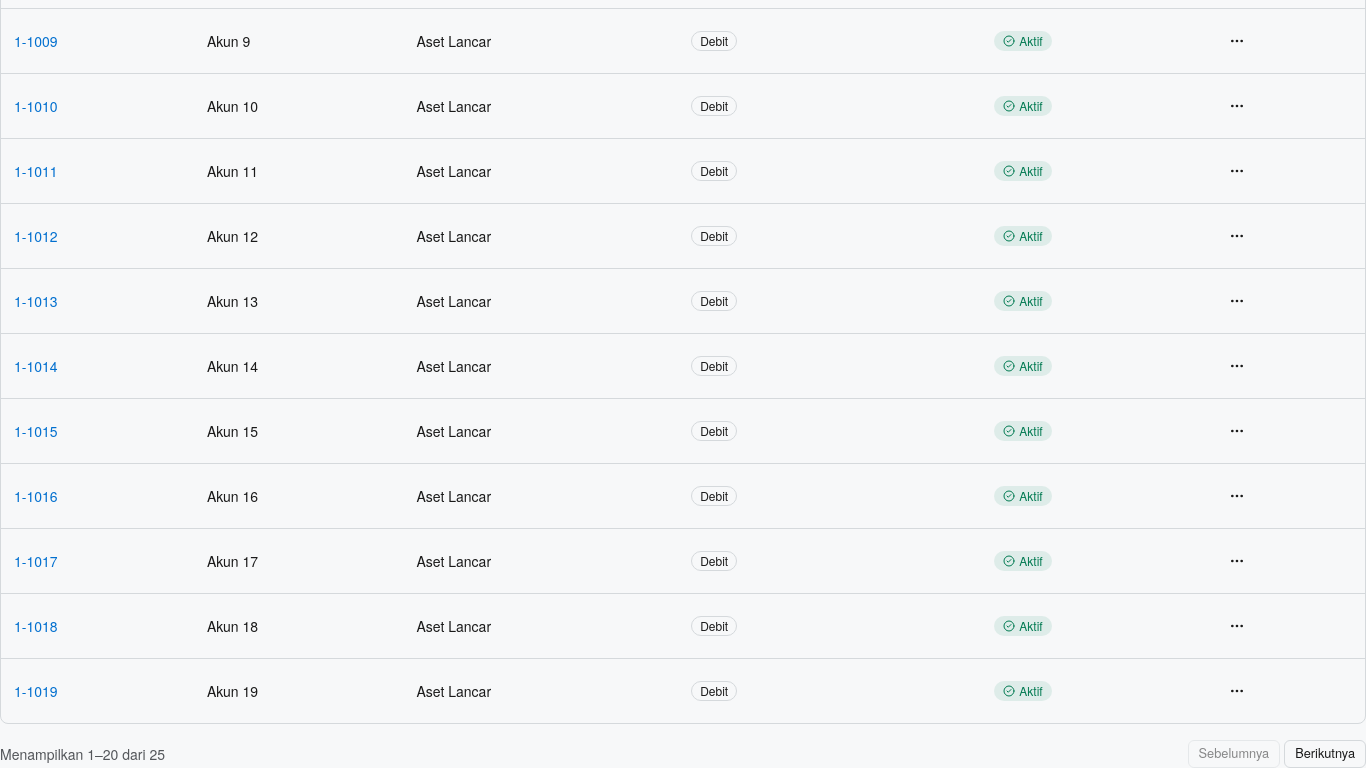
it: paginates accounts server-side
(page scrolled)
Check: the text "Akun 20" is not shown
Check: the text "Menampilkan 1–20 dari 25" is shown, box [0,744,165,764]
What coordinates should you click on to do the following:
click the button "Berikutnya"
I would click on:
 (1325, 754)
Its box is [1284,740,1365,767].
(page scrolled)
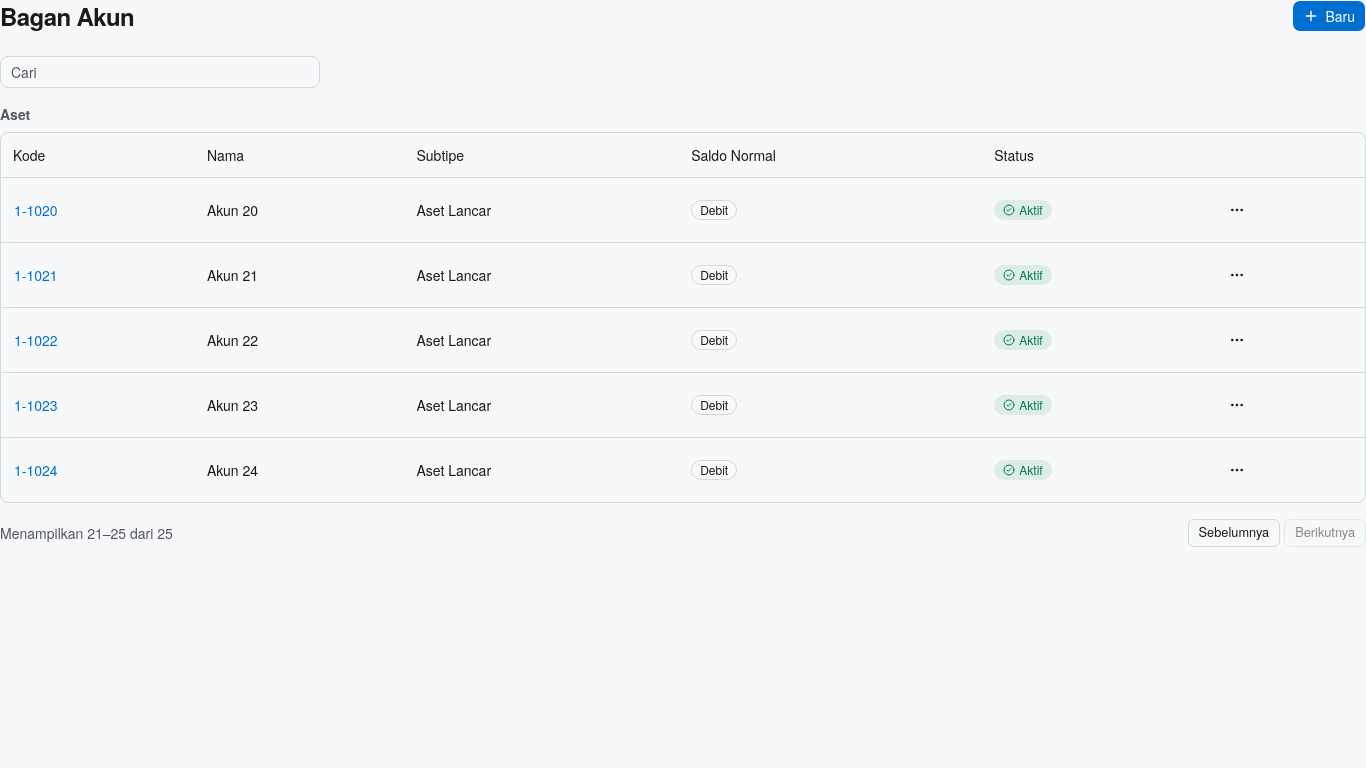
Check: the text "Akun 20" is shown, box [195,177,404,242]
